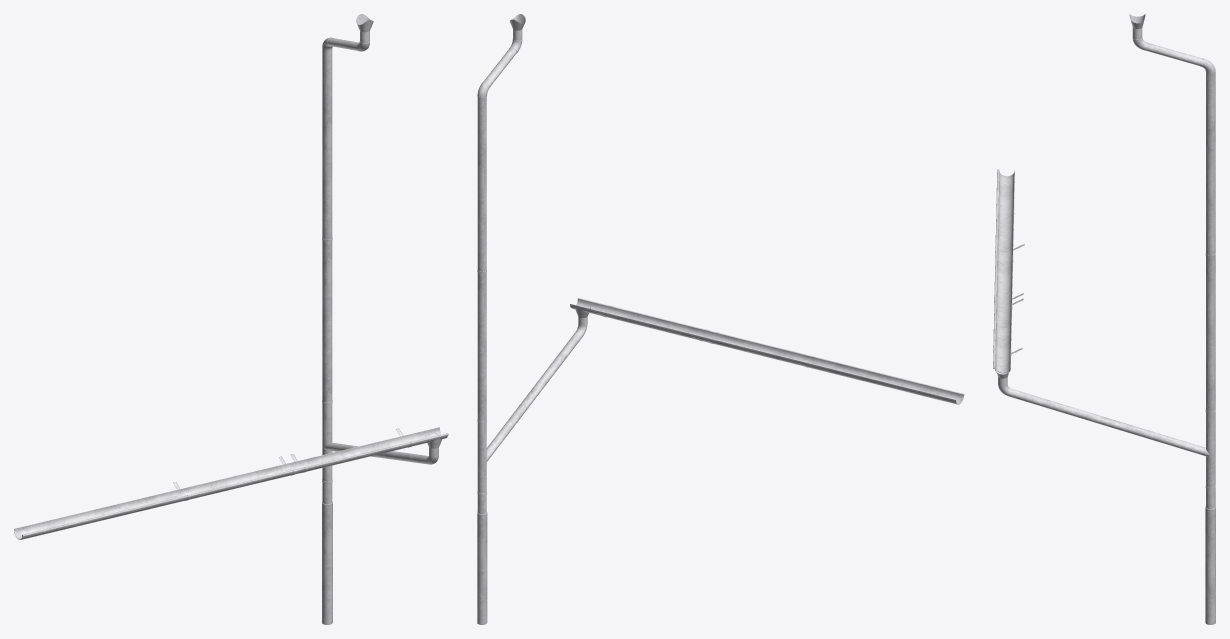
File: milker.glb
The picture shows the model from 3 angles, left to right: view 1: azimuth 30°, elevation 25°; view 2: azimuth 150°, elevation 25°; view 3: azimuth 270°, elevation 25°; orthographic projection. The views are drawn at different scales.
Visible parts, largest first — view 1: MilkStation; view 2: MilkStation; view 3: MilkStation.
Boxes of the visible parts, <box> form: MilkStation: <box>14,14,448,624</box>; MilkStation: <box>477,14,964,624</box>; MilkStation: <box>993,14,1215,624</box>.
Size of the model in its own units: 2.63 by 3.76 by 1.25.
Materials: 1 (1 with a texture image).
